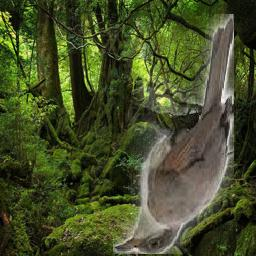Cuckoo: (114, 14, 235, 254)
